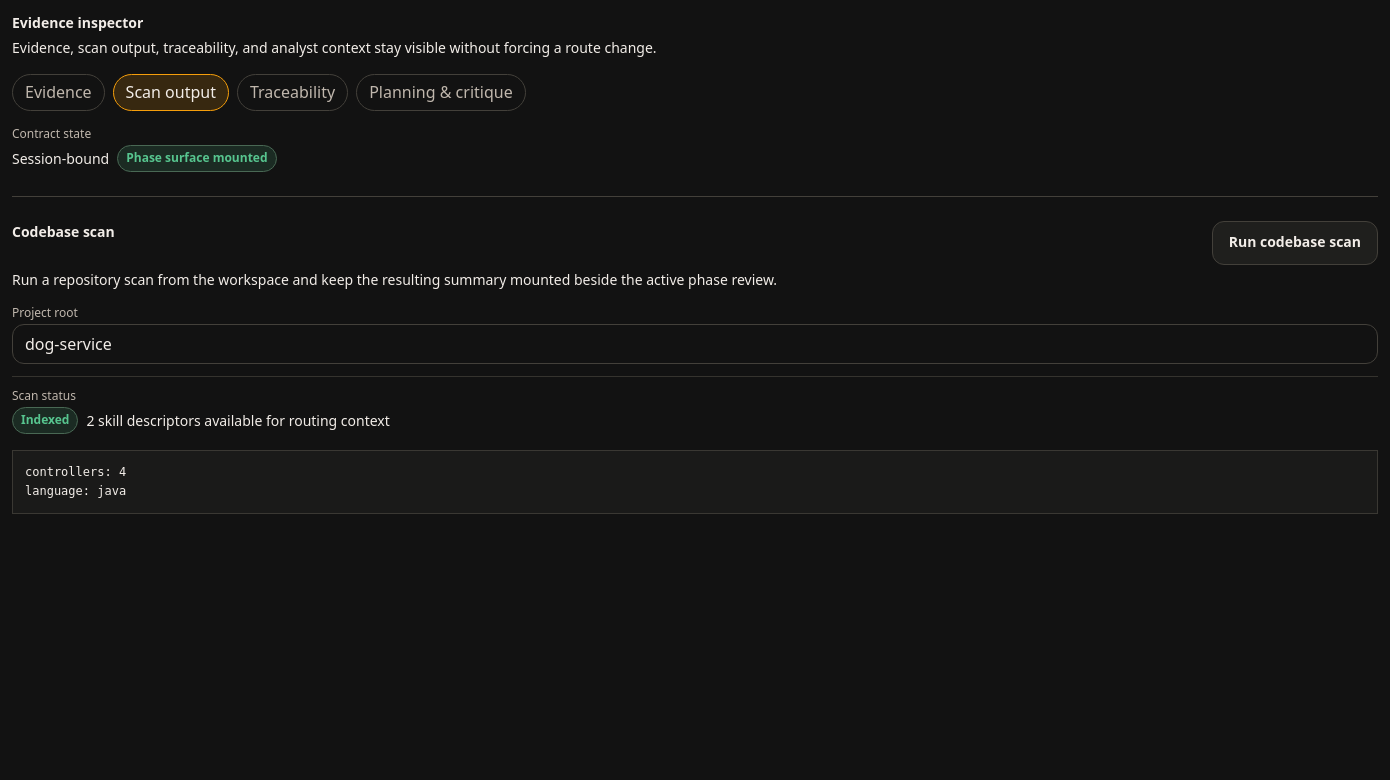
it: WorkspaceInspector › rehydrates scan output and preserves the previous summary when a rerun fails
This screenshot has width=1390, height=780.
Expected: the text "controllers: 4 language: java" is shown, 12,450 -> 1378,514
Expected: the field showing "dog-service" is shown, 12,324 -> 1378,364
Click the button "Run codebase scan" at [1295, 243], box 1212,221 -> 1378,265
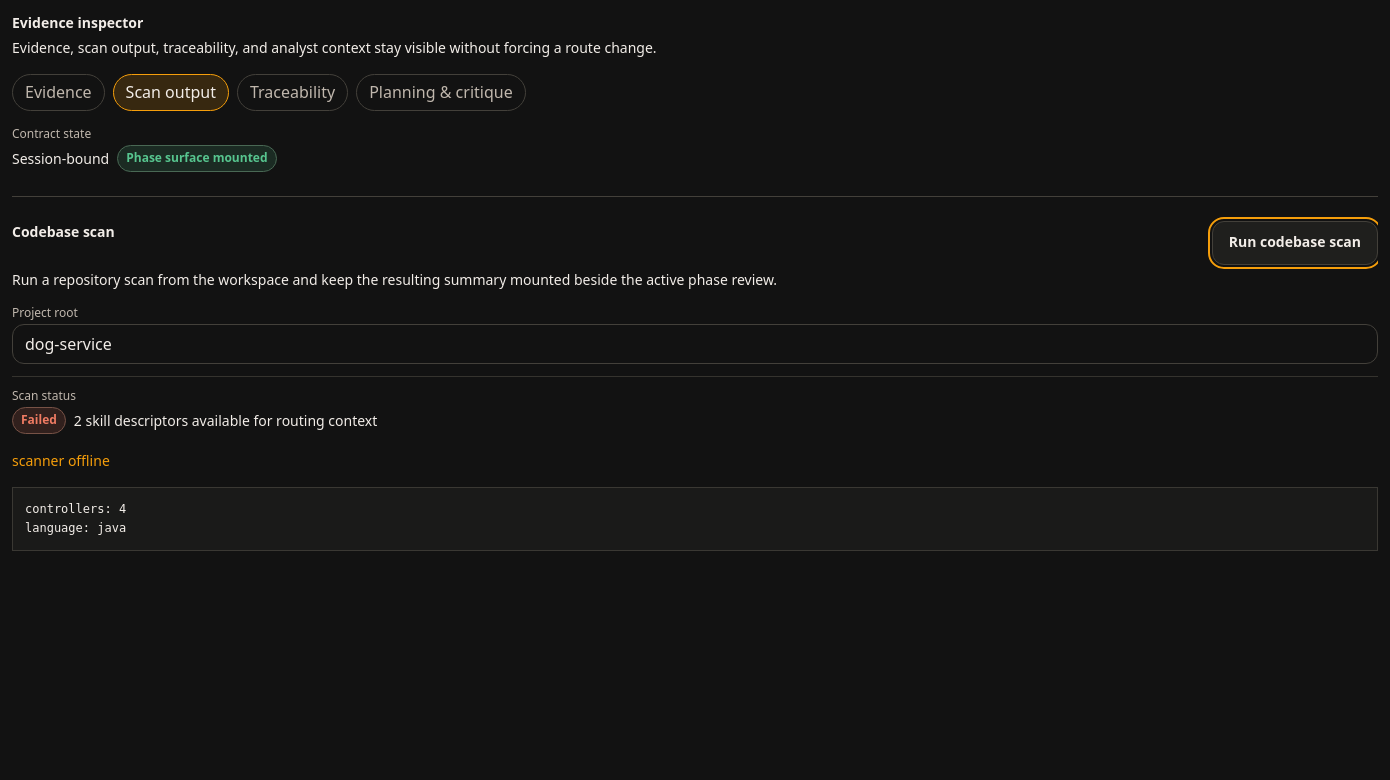
Expected: the text "controllers: 4 language: java" is shown, 12,487 -> 1378,551
Expected: the text "scanner offline" is shown, 12,451 -> 110,470
